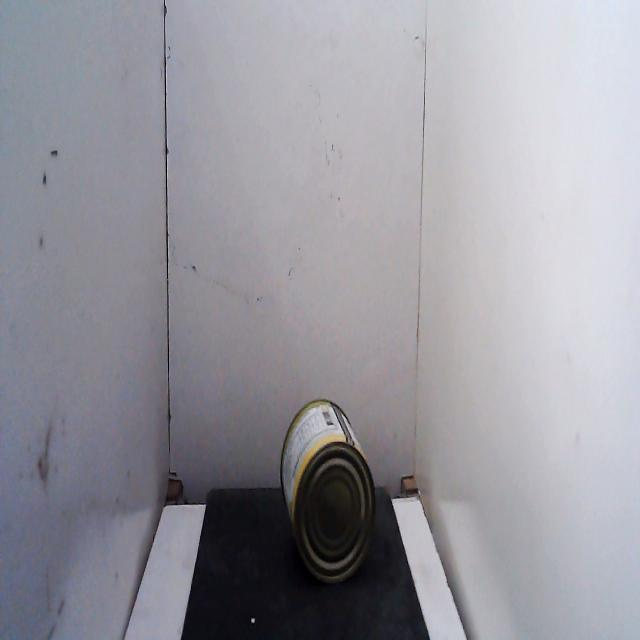metal: (260, 378, 395, 608)
